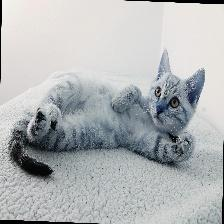kedo: (9, 50, 205, 176)
